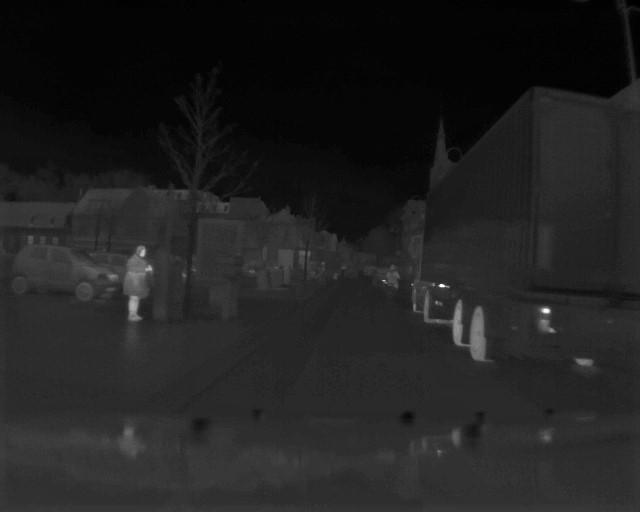car: (9, 241, 123, 306)
person: (125, 244, 153, 323), (387, 262, 400, 293)
